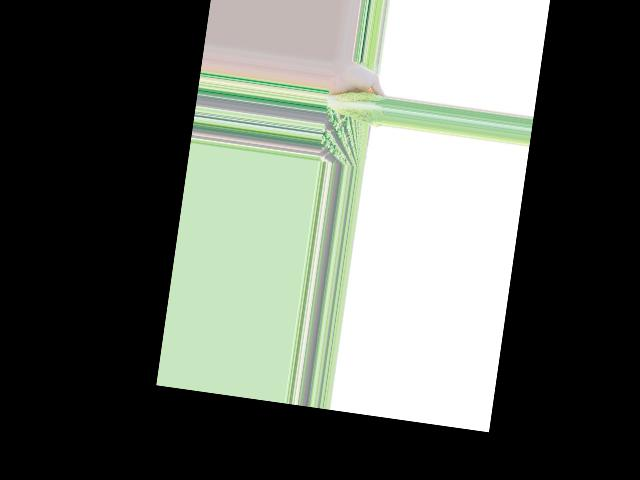lettuce: (324, 87, 385, 126)
